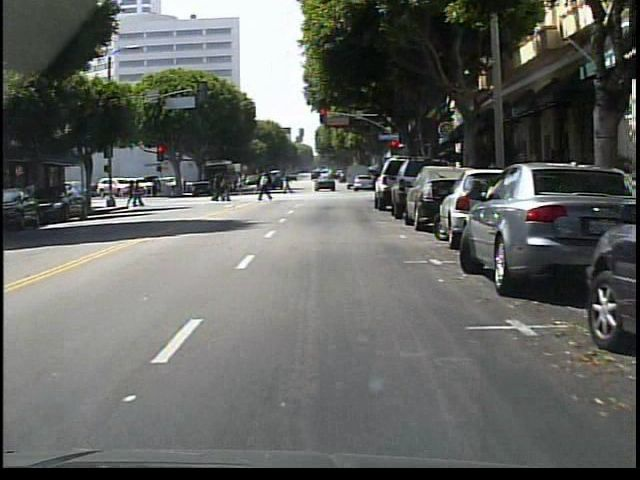person: (253, 168, 274, 202), (279, 169, 295, 198)
